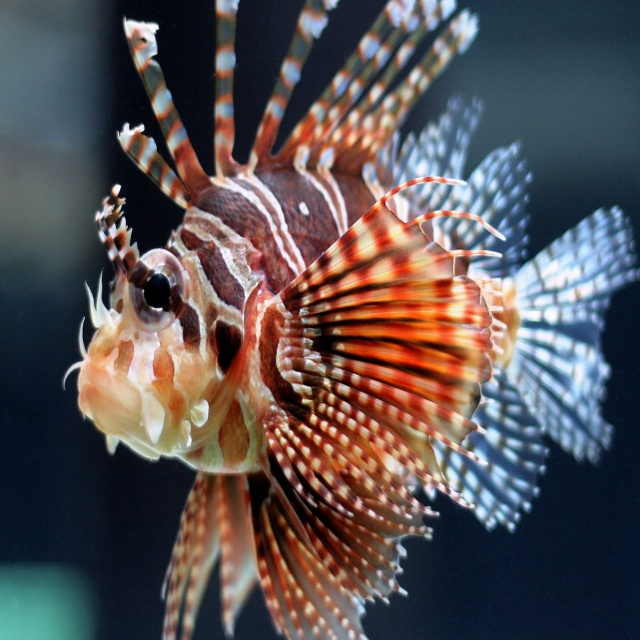Fish: (63, 0, 640, 640)
